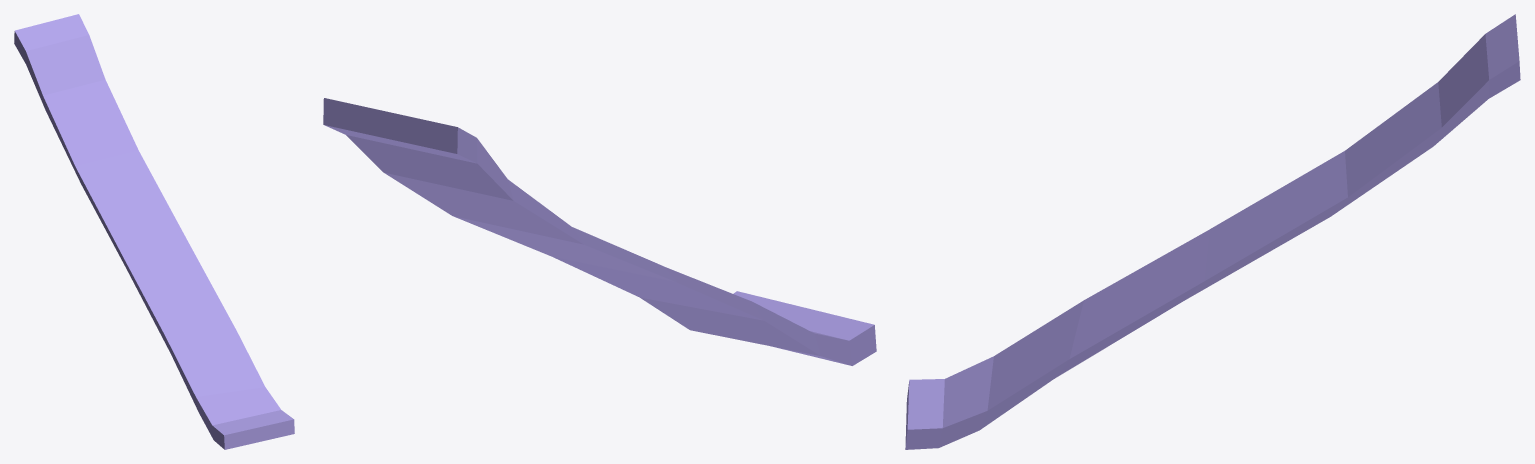
Rendered from modulo rampa.fbx.
3 renders of one model, left to right at view 1: azimuth 30°, elevation 25°; view 2: azimuth 150°, elevation 25°; view 3: azimuth 270°, elevation 25°, orthographic. The views are drawn at different scales.
Visible parts, largest first — view 1: Cube.032; view 2: Cube.032; view 3: Cube.032.
Part boxes in pixels (bbox=[...]): Cube.032: bbox=[14, 14, 294, 449]; Cube.032: bbox=[323, 98, 876, 365]; Cube.032: bbox=[905, 14, 1520, 449].
Size of the model in its own units: 1202 by 4366 by 6298.
